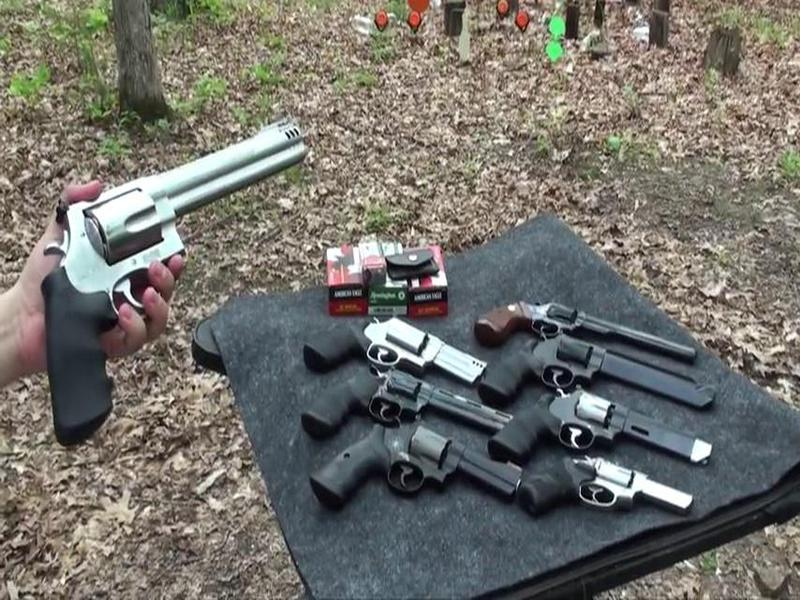Revolver: (39, 111, 311, 444), (467, 275, 705, 366), (518, 449, 697, 535)
